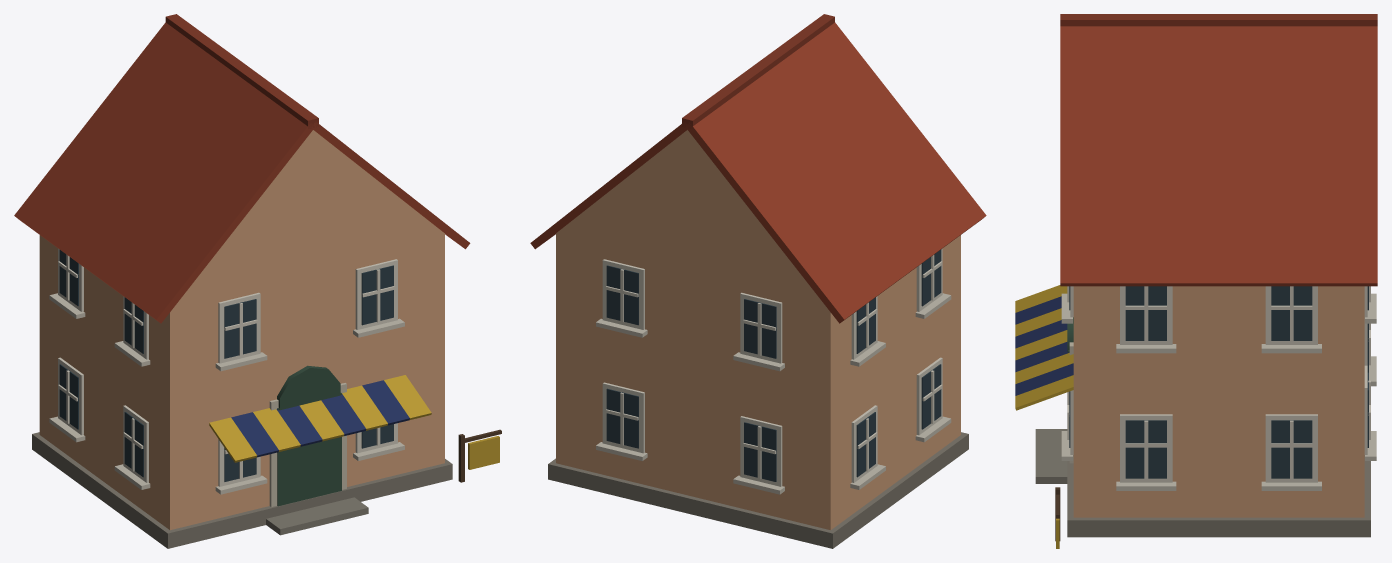
The model's file is procedural_jeweler@4.glb.
The picture shows the model from 3 angles, left to right: view 1: azimuth 30°, elevation 25°; view 2: azimuth 150°, elevation 25°; view 3: azimuth 270°, elevation 25°; orthographic projection. The views are drawn at different scales.
Visible parts, largest first — view 1: part_0; view 2: part_0; view 3: part_0.
Boxes of the visible parts, left/top/right/bottom form: part_0: left=14, top=14, right=501, bottom=548; part_0: left=530, top=14, right=986, bottom=548; part_0: left=1015, top=14, right=1377, bottom=548.
Size of the model in its own units: 7 by 7.73 by 5.73.
